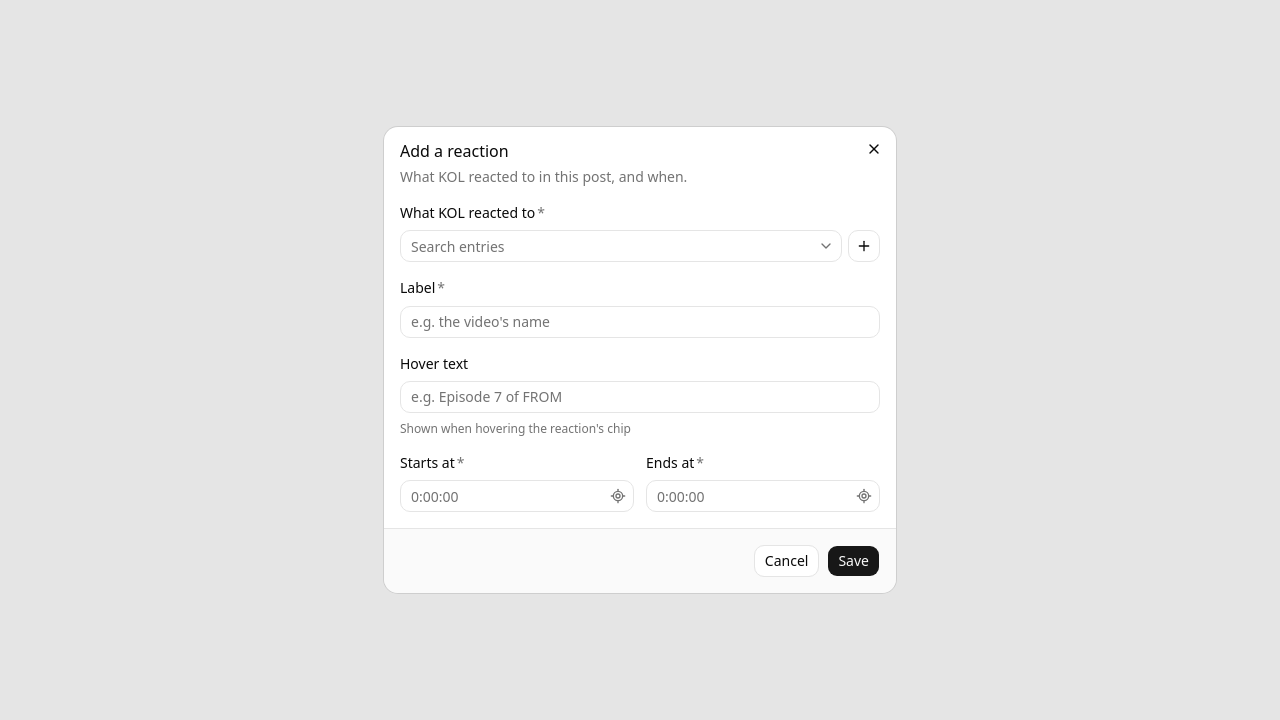
Test: reactionEditorDialog › adding a reaction › says when no entry matches
Type "zzz" into the dropdown labelled "What KOL reacted to *".
click(607, 246); type("zzz")  # box [401,230,814,262]
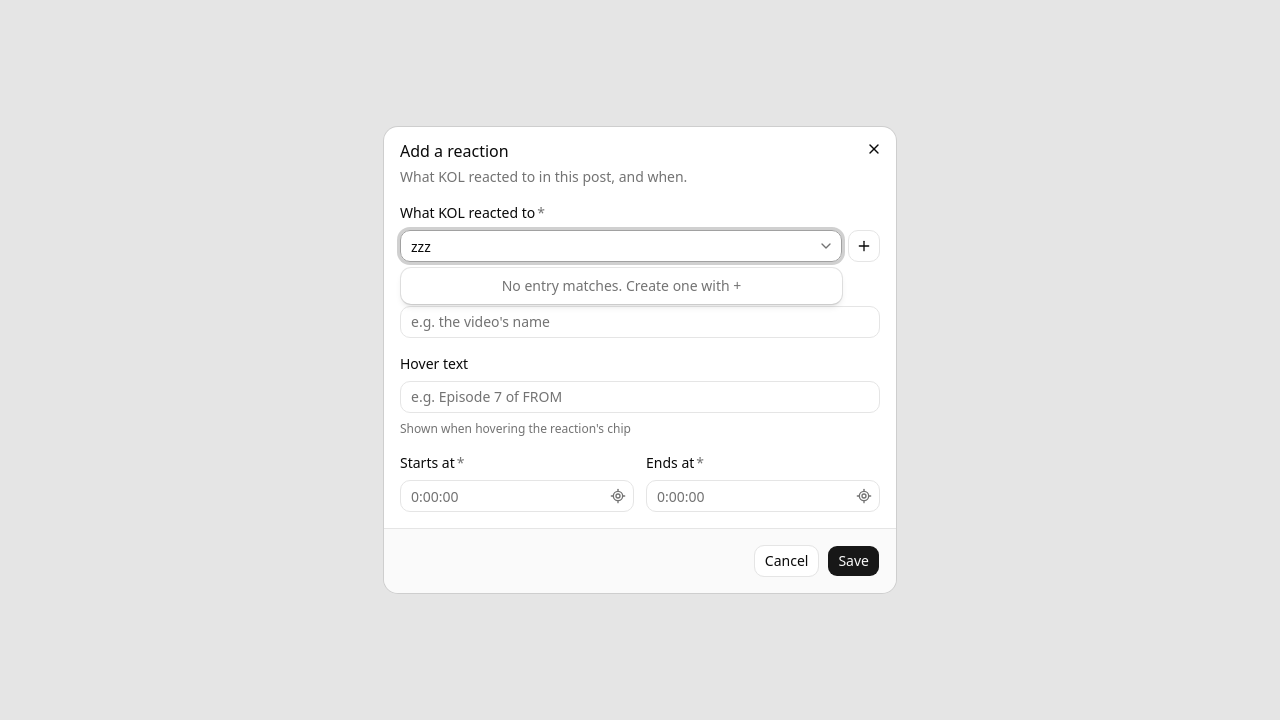
Now the text "No entry matches. Create one with +" is shown, box [502,276,741,295]
